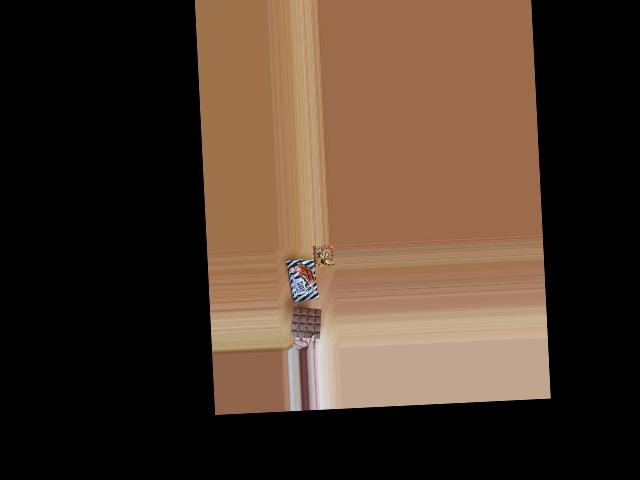chocolate: (286, 256, 317, 303)
